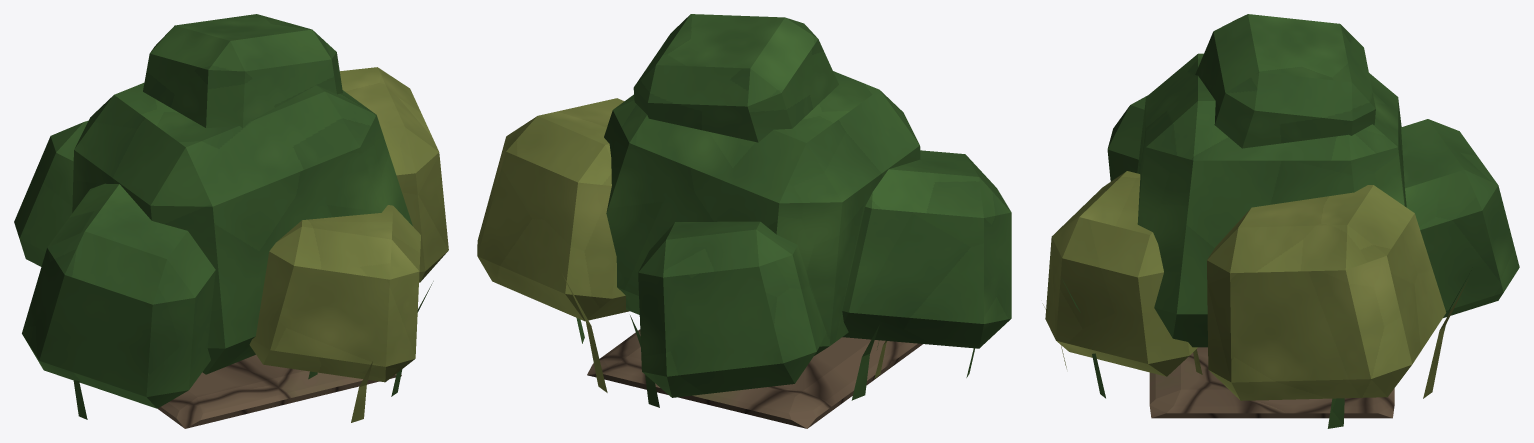
Rendered from env_overgrown_bush.glb.
3 renders of one model, left to right at view 1: azimuth 30°, elevation 25°; view 2: azimuth 150°, elevation 25°; view 3: azimuth 270°, elevation 25°, orthographic. The views are drawn at different scales.
Visible parts, largest first — view 1: Env_overgrown_bush; view 2: Env_overgrown_bush; view 3: Env_overgrown_bush.
Part boxes in pixels (x1=…): Env_overgrown_bush: x1=14, y1=14, x2=448, y2=428; Env_overgrown_bush: x1=477, y1=14, x2=1011, y2=428; Env_overgrown_bush: x1=1042, y1=14, x2=1519, y2=428.
Bounding box in the file's own units: 1.6 × 1.13 × 1.43.
4 materials, 4 textured.
